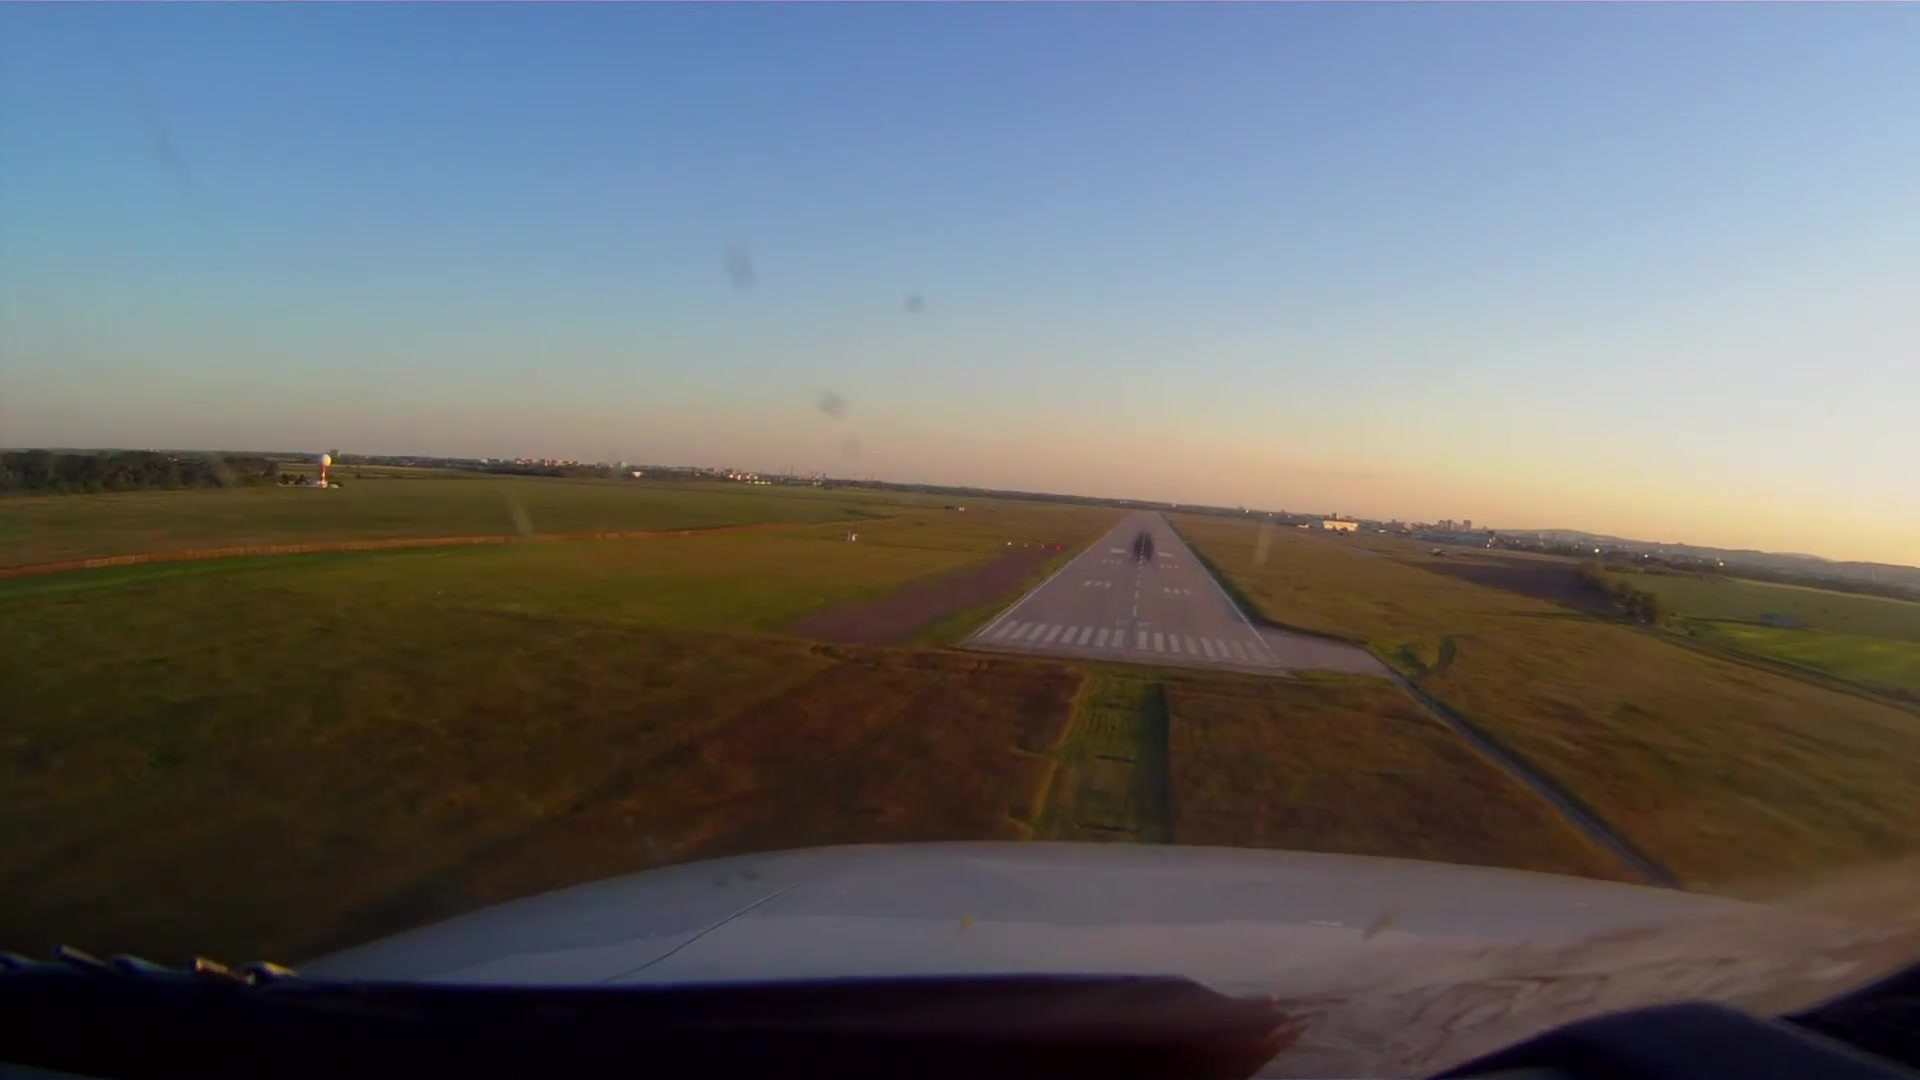entrance: (994, 618, 1261, 659)
runway: (968, 502, 1282, 669)
